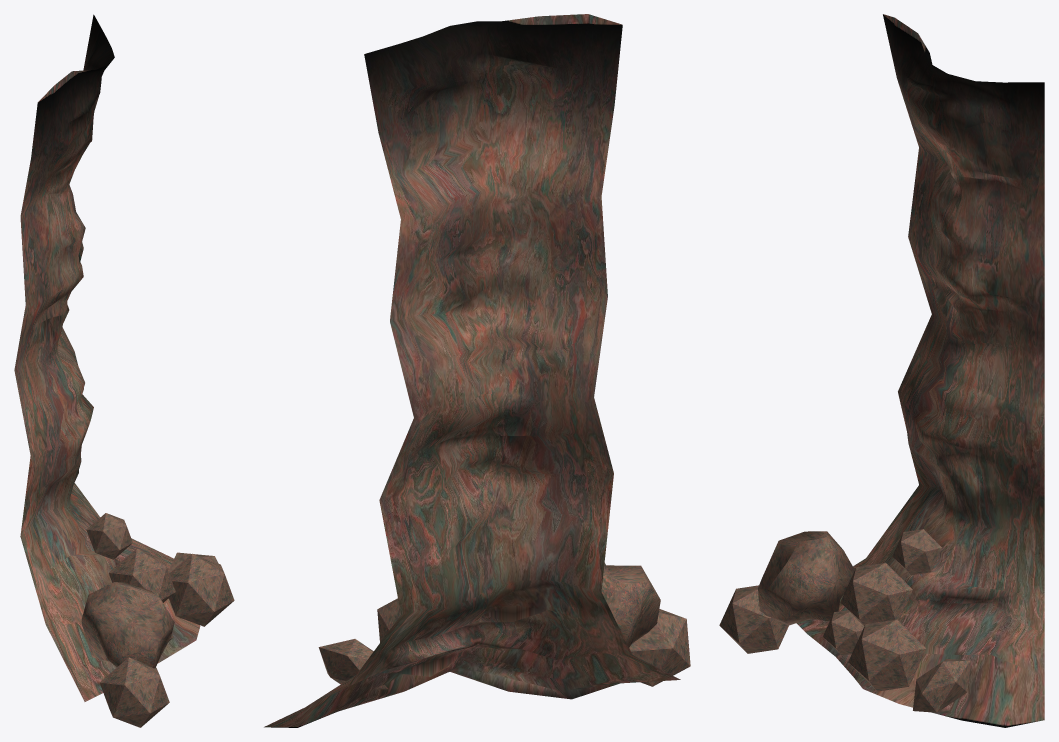
Rendered from cave_walls_convex2.glb.
3 renders of one model, left to right at view 1: azimuth 30°, elevation 25°; view 2: azimuth 150°, elevation 25°; view 3: azimuth 270°, elevation 25°, orthographic. The views are drawn at different scales.
Parts seen in each view (by area): view 1: cave_convex2-col; view 2: cave_convex2-col; view 3: cave_convex2-col.
Boxes of the visible parts, <box> form: cave_convex2-col: <box>14,14,234,727</box>; cave_convex2-col: <box>264,14,690,727</box>; cave_convex2-col: <box>719,14,1044,727</box>.
Bounding box in the file's own units: 1.6 × 4.25 × 2.
Materials: 2 (2 with a texture image).
